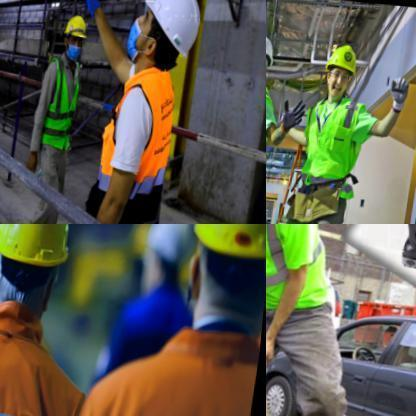vest: (88, 295, 265, 415), (92, 61, 191, 223), (0, 289, 98, 415), (266, 224, 354, 312), (297, 88, 366, 192), (46, 55, 93, 148), (266, 81, 282, 184)
